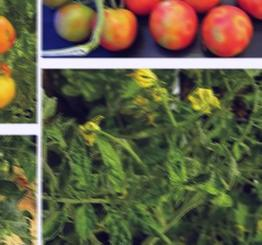Tomato leaf mosaic virus: (97, 138, 123, 194), (69, 135, 90, 195), (103, 212, 133, 245), (42, 204, 67, 241), (74, 202, 96, 243)
